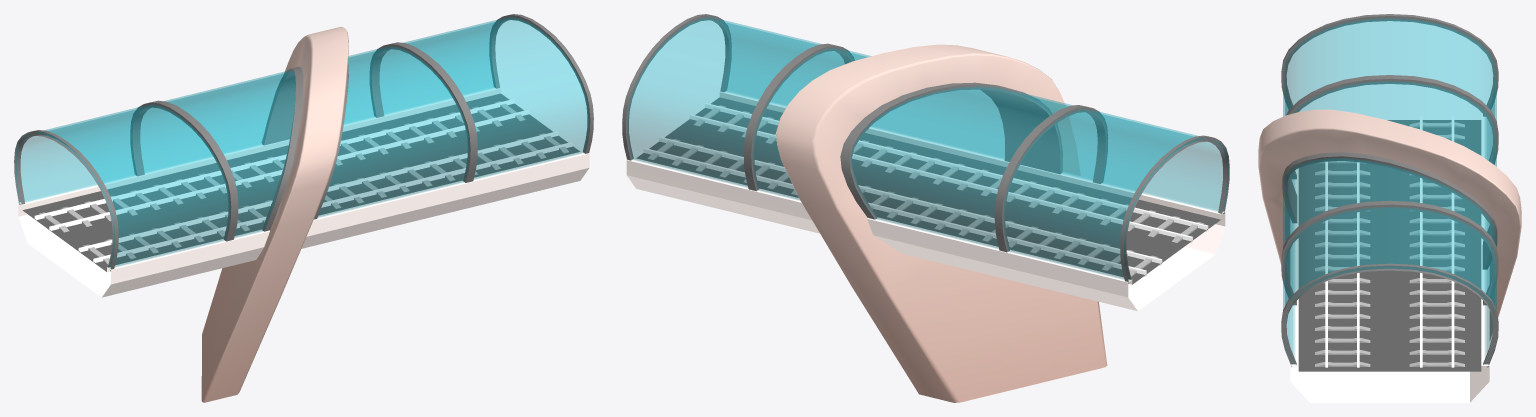
Rendered from railway_003.glb.
3 renders of one model, left to right at view 1: azimuth 30°, elevation 25°; view 2: azimuth 150°, elevation 25°; view 3: azimuth 270°, elevation 25°, orthographic. The views are drawn at different scales.
Visible parts, largest first — view 1: railway_003; view 2: railway_003; view 3: railway_003.
Part boxes in pixels (x1=…): railway_003: x1=14, y1=14, x2=593, y2=402; railway_003: x1=622, y1=14, x2=1229, y2=402; railway_003: x1=1258, y1=14, x2=1521, y2=402.
Bounding box in the file's own units: 30 × 16.8 × 13.26.
2 materials, 2 textured.
